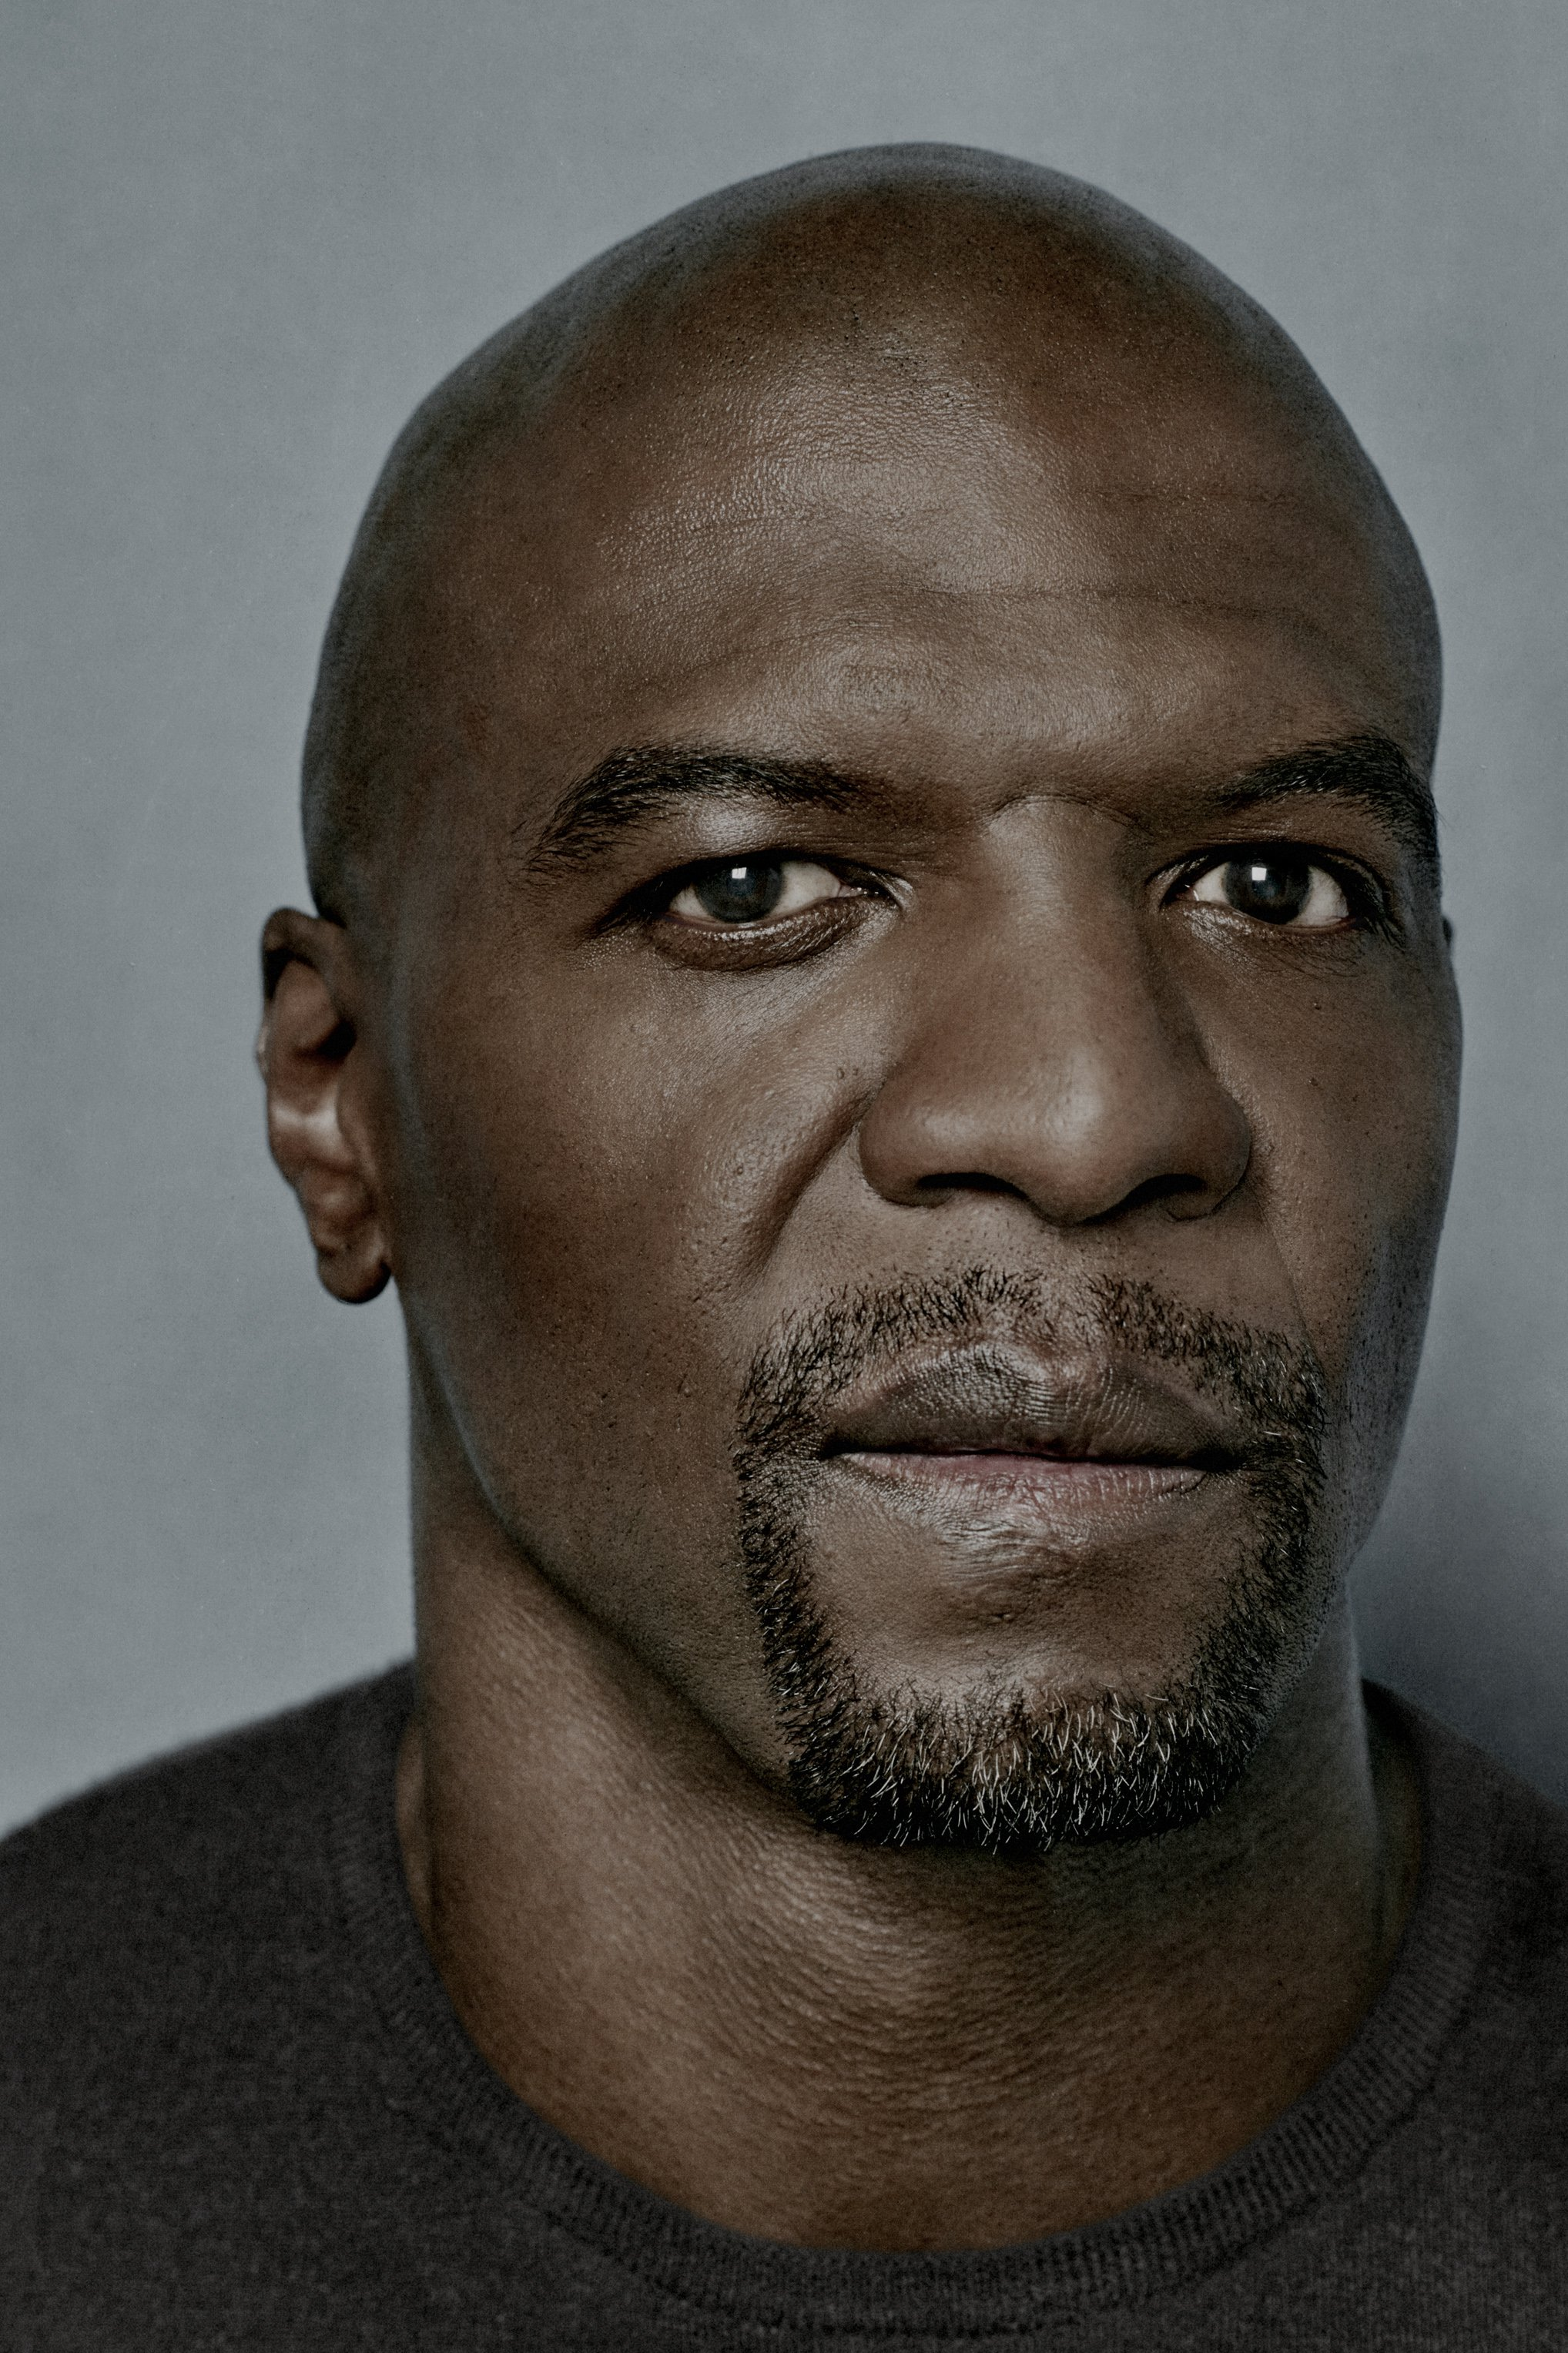noMask: (180, 183, 1516, 1986)
